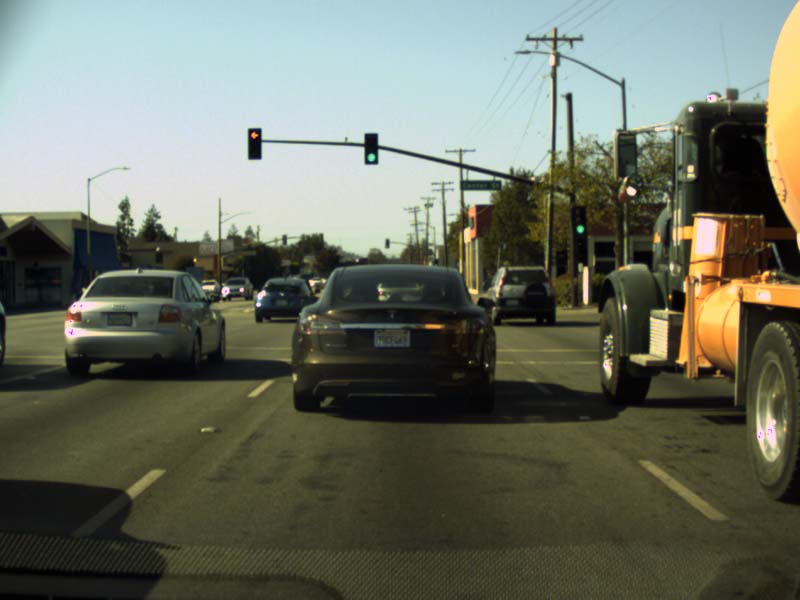Green: (570, 206, 586, 237), (364, 133, 377, 165)
Red: (247, 128, 261, 159)
